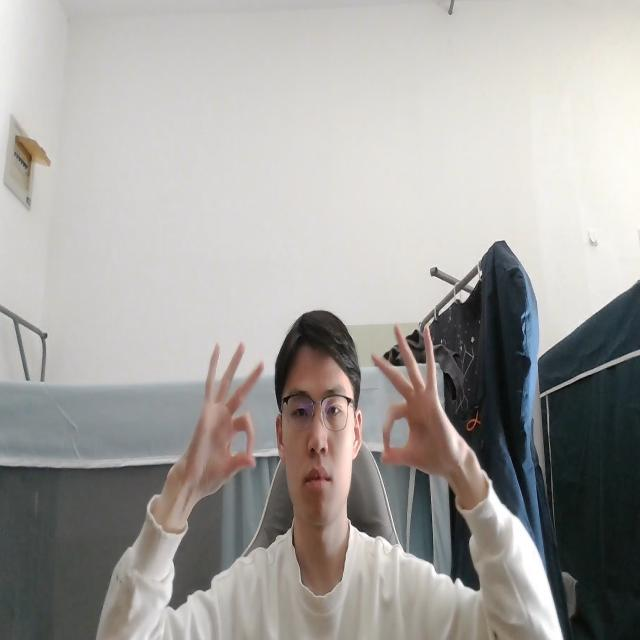ok: (164, 334, 267, 514), (364, 320, 471, 490)
